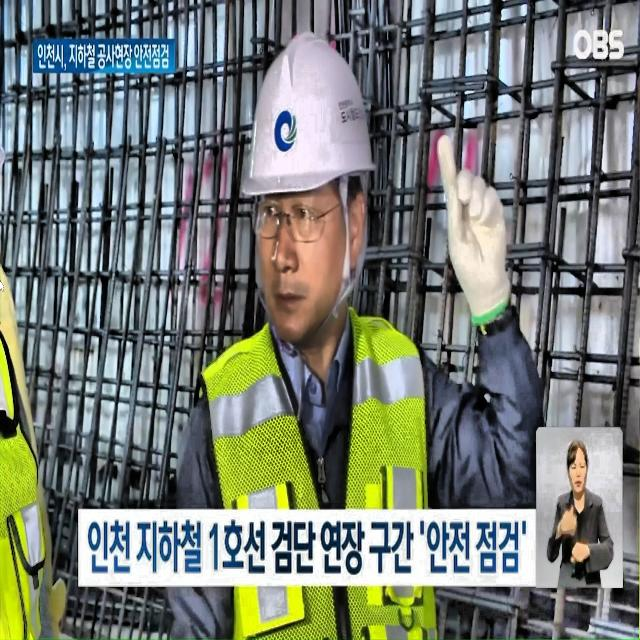safety_helmet: (242, 27, 377, 199)
safety_jacket: (198, 311, 440, 640)
